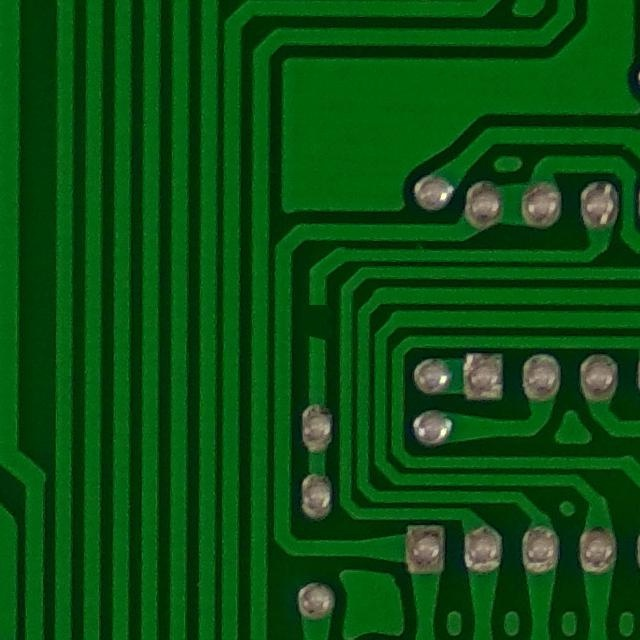open_circuit: (301, 291, 338, 350)
